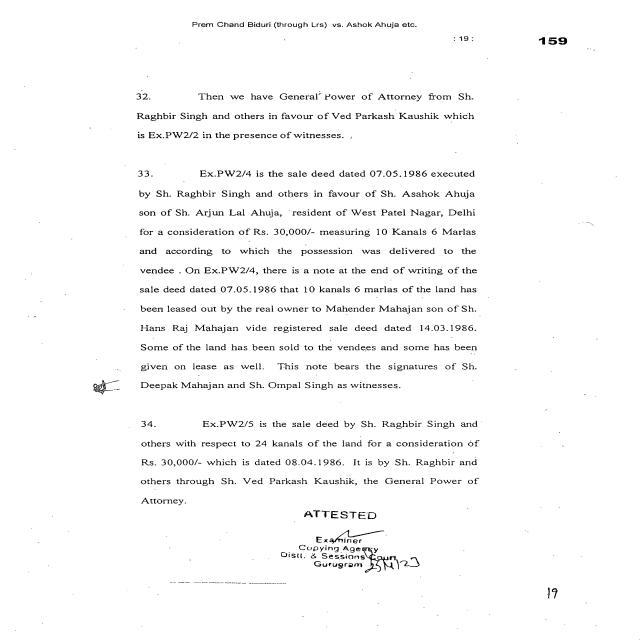page-number: (474, 0, 638, 48)
